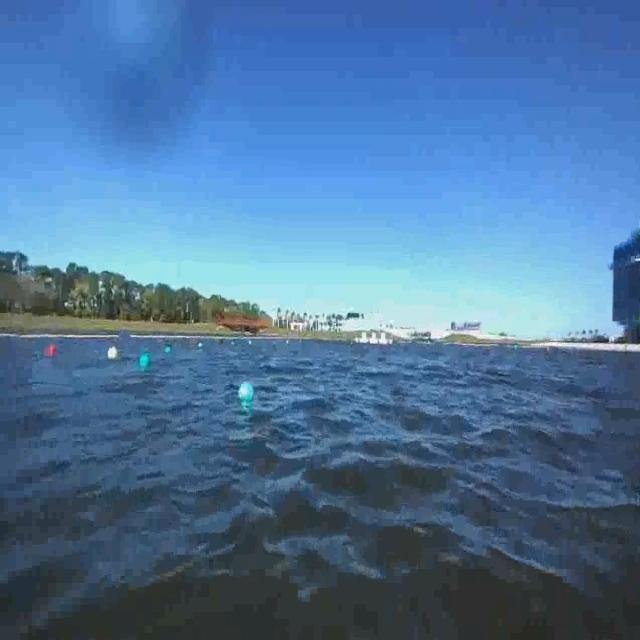green-buoy: (237, 380, 252, 401), (140, 352, 152, 369)
red-buoy: (46, 345, 56, 358)
yellow-buoy: (104, 339, 121, 364)
